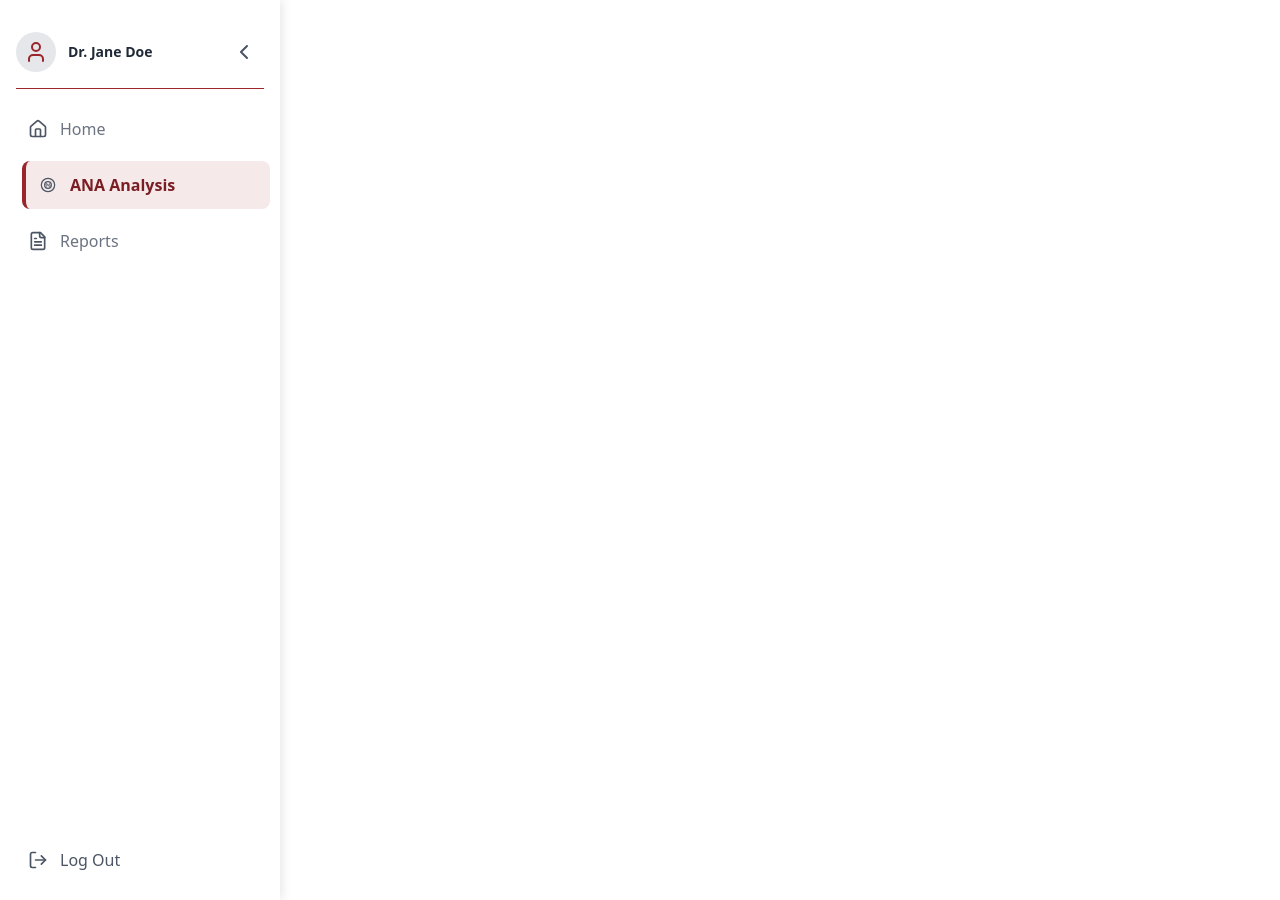
Test case: DashboardSidebar › unsaved analysis guard › asks before leaving a continued result for a new analysis
Step 1. Click the link "ANA Analysis" → (146, 185), box [22, 161, 270, 209]
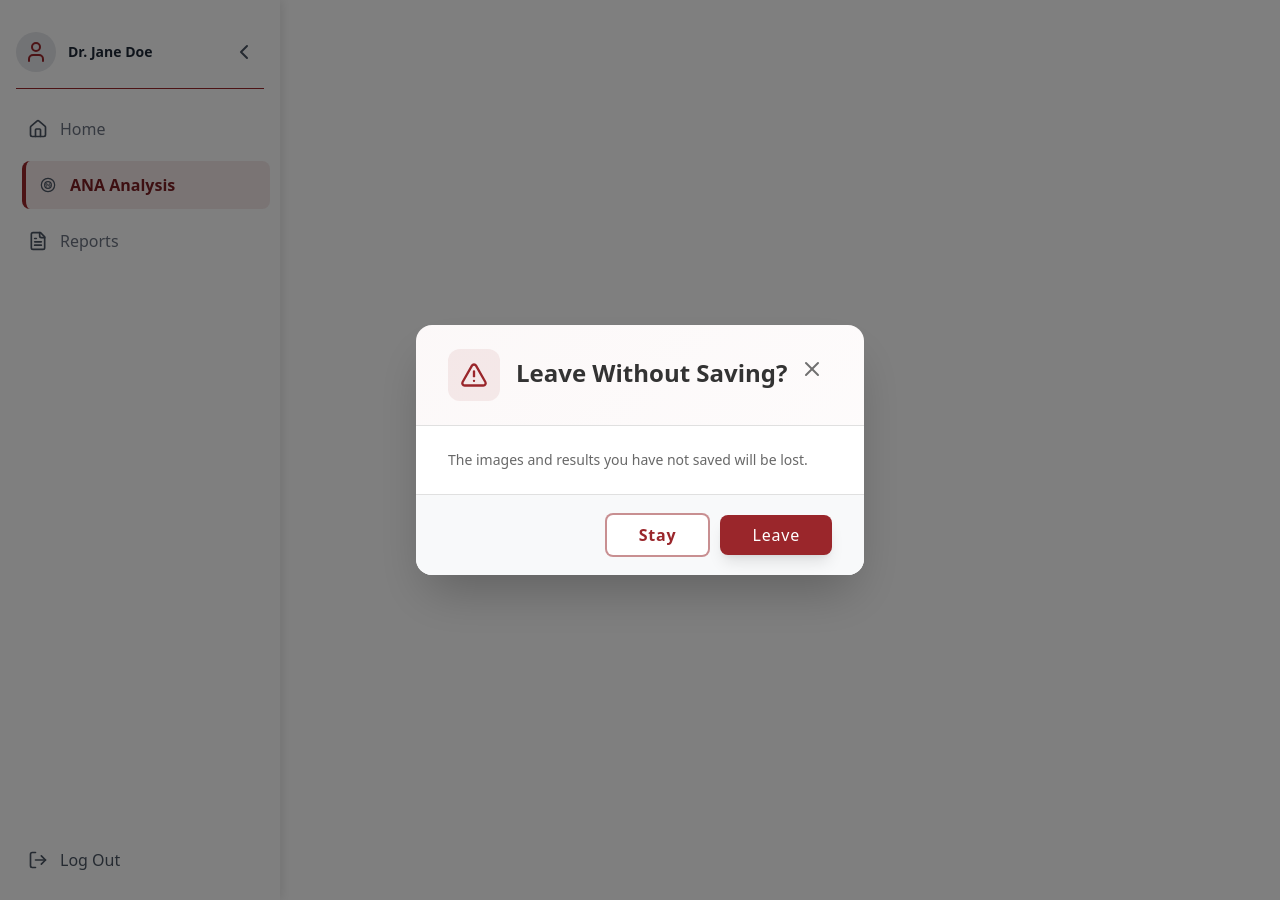
Now the dialog "Leave Without Saving?" is shown, box [416, 325, 864, 575]
